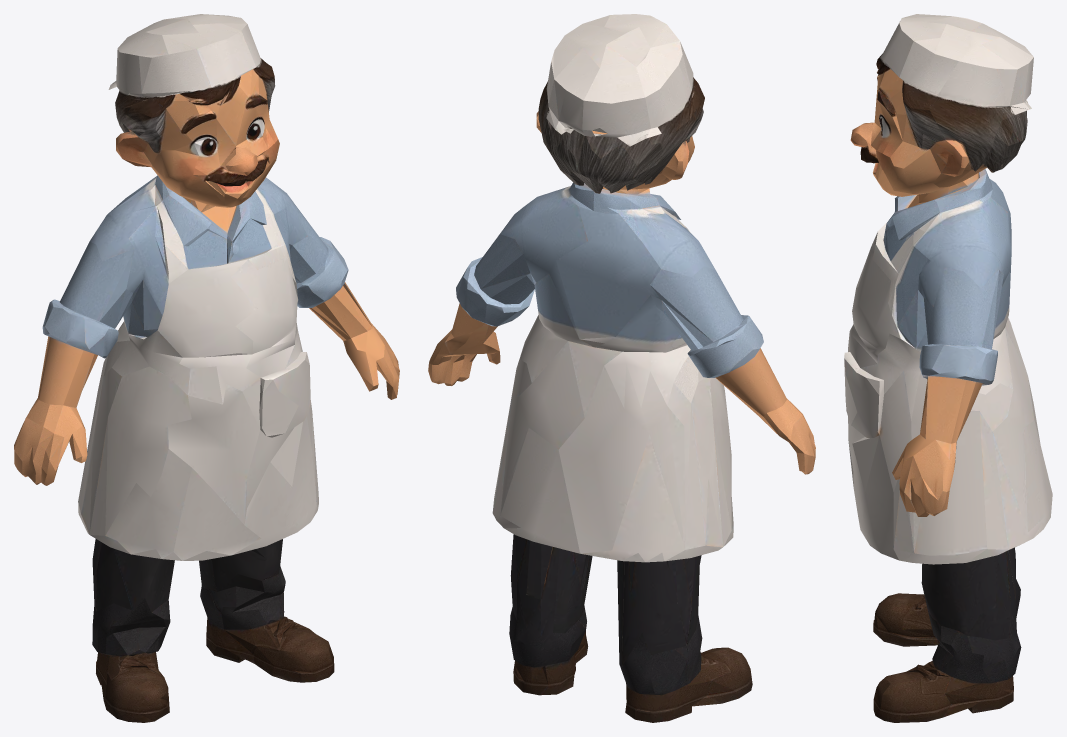
File: ali-amca.glb
3 views of the same model, side by side, from view 1: azimuth 30°, elevation 25°; view 2: azimuth 150°, elevation 25°; view 3: azimuth 270°, elevation 25° (orthographic).
Visible parts, largest first — view 1: output_unwrapped; view 2: output_unwrapped; view 3: output_unwrapped.
Part boxes in pixels (x1,y1,x2,y2): output_unwrapped: (14,14,399,722); output_unwrapped: (428,14,815,722); output_unwrapped: (844,14,1052,722).
Size of the model in its own units: 1.16 by 1.9 by 0.5558.
Materials: 1 (1 with a texture image).
